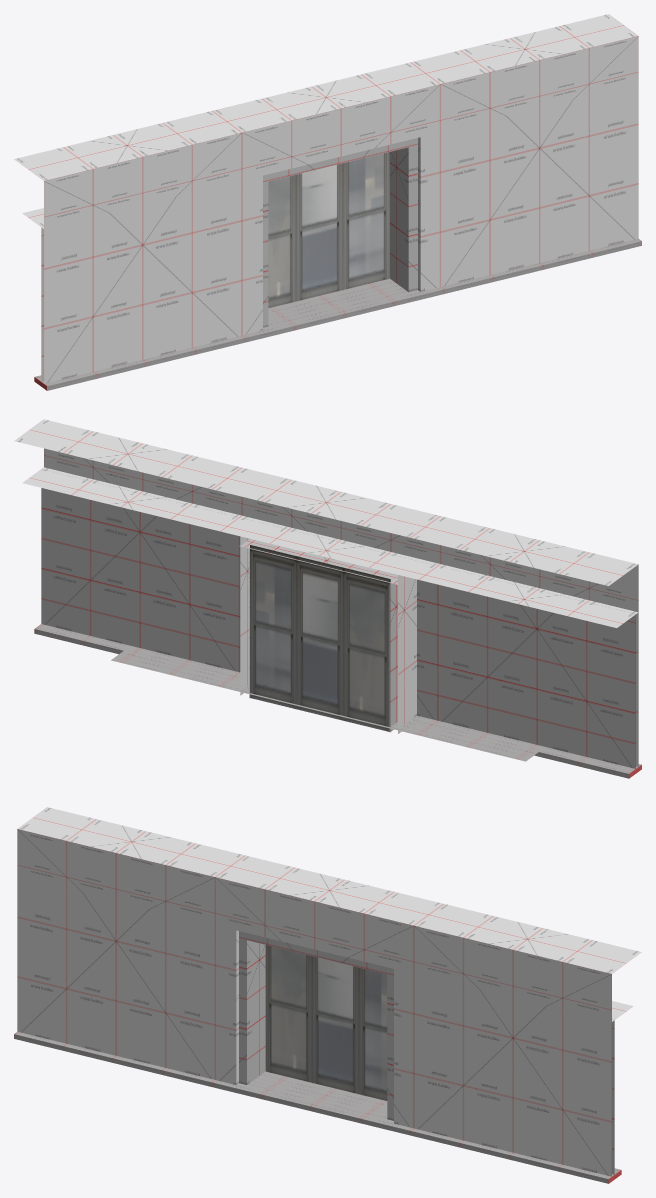
3 renders of one model, top to bottom at view 1: azimuth 30°, elevation 25°; view 2: azimuth 150°, elevation 25°; view 3: azimuth 330°, elevation 25°, orthographic.
Parts seen in each view (by area): view 1: B_02_3x_e, B_02_border_b; view 2: B_02_3x_e, B_02_border_b; view 3: B_02_3x_e, B_02_border_b.
Boxes of the visible parts, x1,y1,x2,y2 form: B_02_3x_e: [14, 14, 638, 383]; B_02_border_b: [34, 238, 641, 390]; B_02_3x_e: [14, 419, 638, 768]; B_02_border_b: [34, 624, 641, 778]; B_02_3x_e: [17, 807, 641, 1176]; B_02_border_b: [14, 1031, 621, 1183].
Bounding box in the file's own units: 60 × 5.8 × 20.02.
